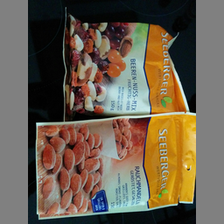nuts: (33, 113, 196, 219), (59, 6, 191, 117)
